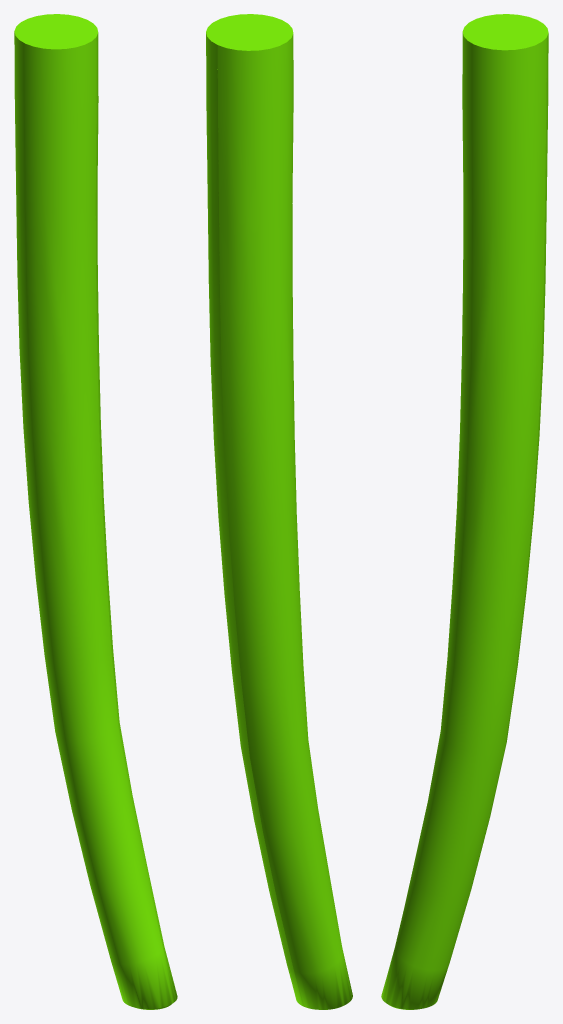
File: chair_027_07.obj
The picture shows the model from 3 angles, left to right: view 1: azimuth 90°, elevation 25°; view 2: azimuth 150°, elevation 25°; view 3: azimuth 270°, elevation 25°; orthographic projection. The views are drawn at different scales.
Size of the model in its own units: 39.61 by 428 by 66.18.
